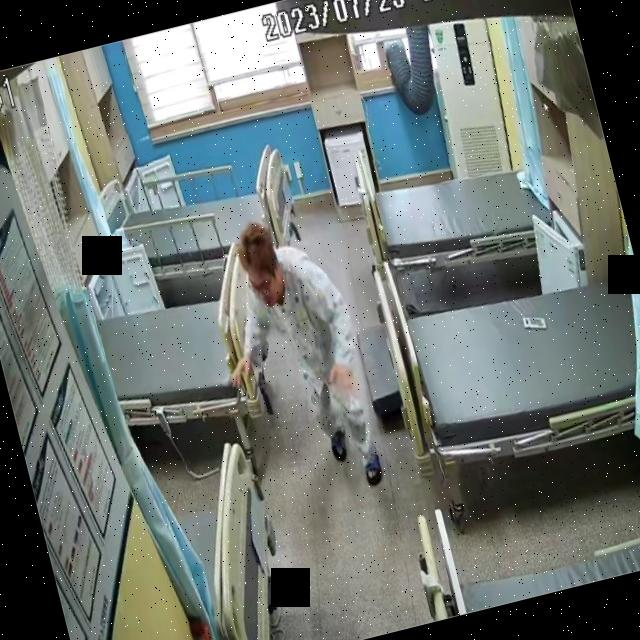bed: (396, 252, 640, 477), (85, 237, 295, 450), (96, 139, 305, 301), (354, 128, 558, 288)
danger: (206, 205, 390, 511)
patient: (206, 207, 391, 511)
